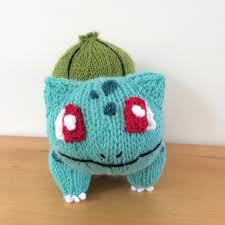bulbasaur: (24, 25, 184, 206)
